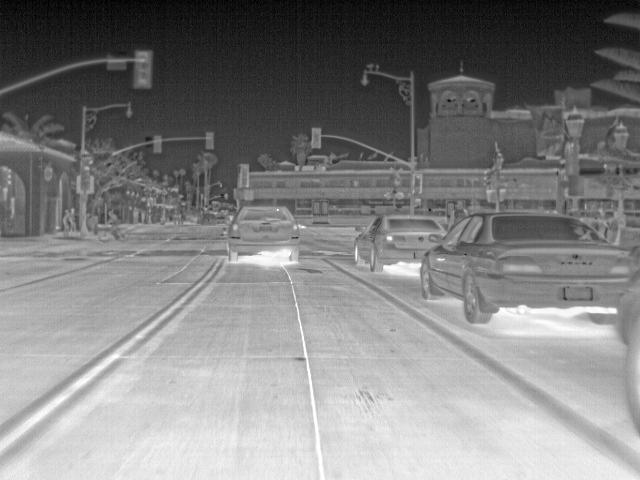car: (421, 211, 636, 343), (349, 214, 447, 273), (225, 204, 302, 264)
person: (102, 209, 124, 240), (444, 200, 459, 230), (60, 207, 73, 235), (67, 206, 79, 236), (456, 199, 469, 224)
